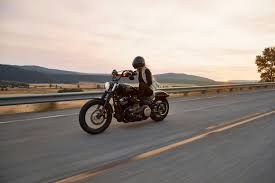motorcycle: (77, 73, 173, 136)
